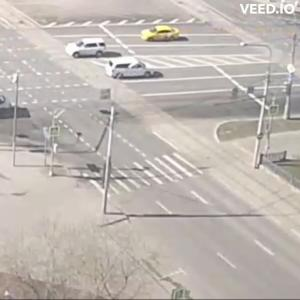car: (108, 58, 167, 82), (67, 40, 109, 61), (141, 27, 182, 43)
